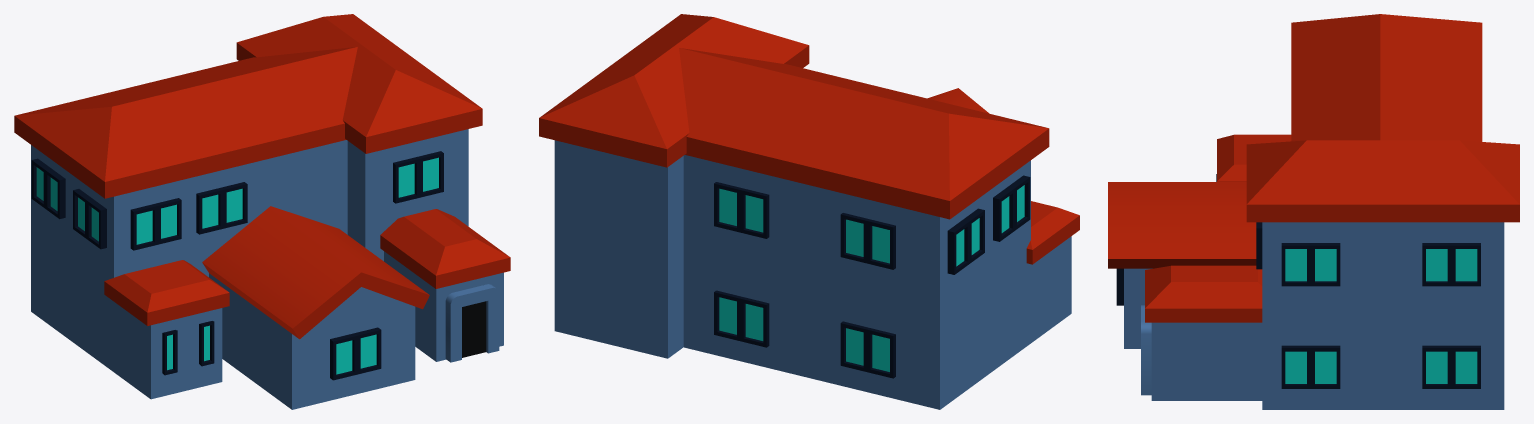
The model's file is House_2.fbx.
3 renders of one model, left to right at view 1: azimuth 30°, elevation 25°; view 2: azimuth 150°, elevation 25°; view 3: azimuth 270°, elevation 25°, orthographic. The views are drawn at different scales.
Visible parts, largest first — view 1: House_2; view 2: House_2; view 3: House_2.
Part boxes in pixels (x1,y1,x2,y2): House_2: [14, 14, 510, 409]; House_2: [539, 14, 1079, 409]; House_2: [1108, 14, 1519, 409].
Bounding box in the file's own units: 69.7 × 43 × 66.05.
